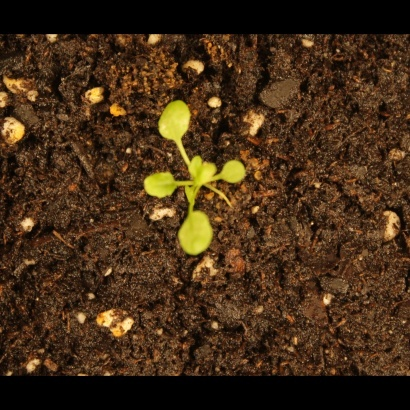leaf: (152, 100, 195, 145), (175, 211, 217, 257), (140, 168, 186, 201), (186, 151, 215, 193), (220, 155, 254, 190)
